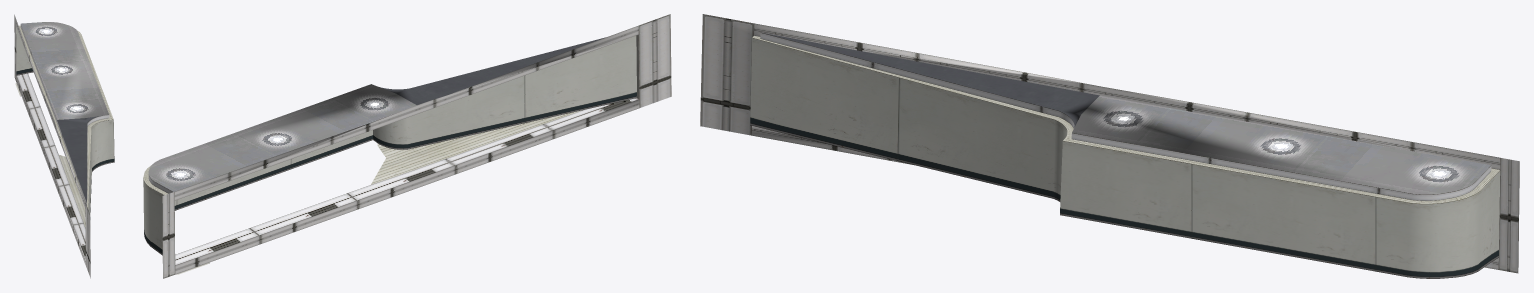
The model's file is STA20_plantcove.FBX.
3 views of the same model, side by side, from view 1: azimuth 30°, elevation 25°; view 2: azimuth 150°, elevation 25°; view 3: azimuth 270°, elevation 25° (orthographic). The views are drawn at different scales.
Visible parts, largest first — view 1: STA20_plantcove; view 2: STA20_plantcove; view 3: STA20_plantcove.
Boxes of the visible parts, x1,y1,x2,y2 form: STA20_plantcove: (14, 14, 114, 278); STA20_plantcove: (143, 14, 671, 278); STA20_plantcove: (700, 14, 1519, 278).
Size of the model in its own units: 11.64 by 4.1 by 24.3.
